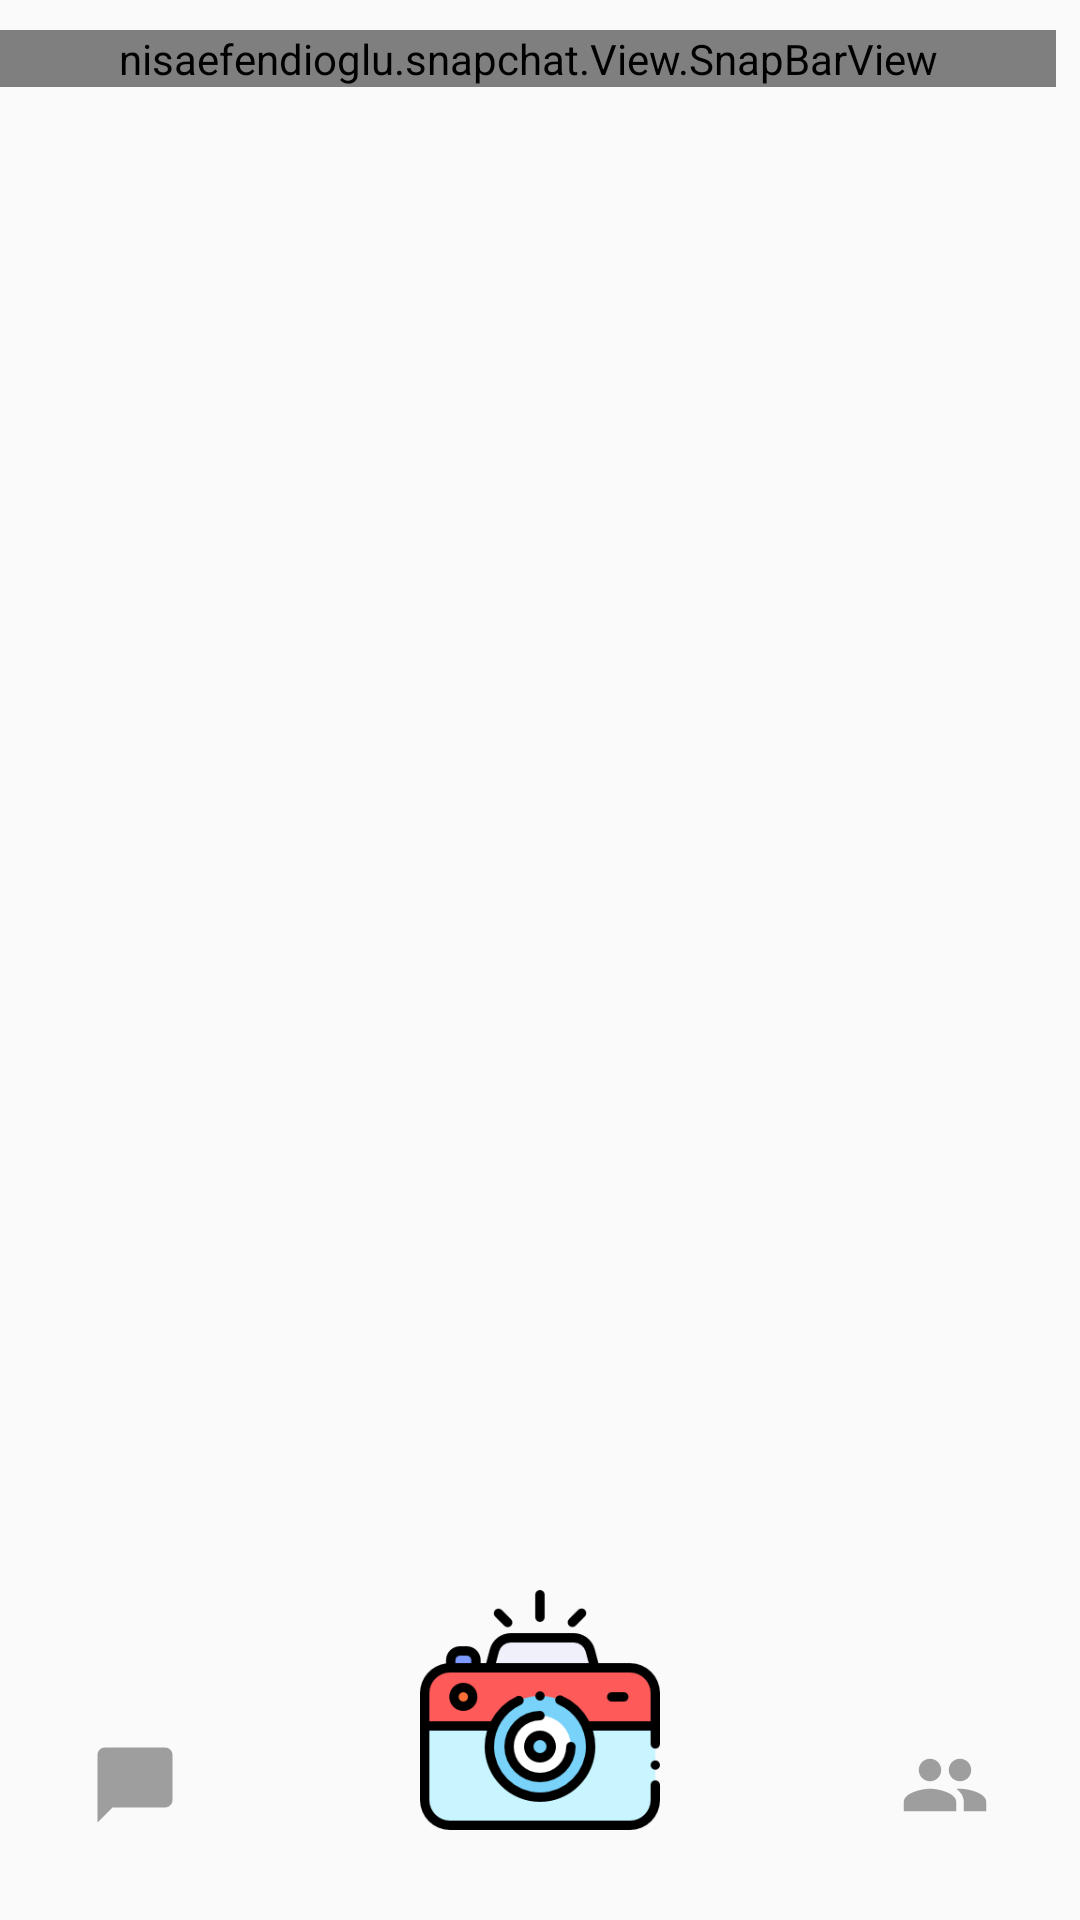

Screen size 1080*1920. Icon name, then its box in pixels as (x1, y1, x2, y2):
camera: (420, 1590, 660, 1830)
chat: (97, 1747, 173, 1822)
